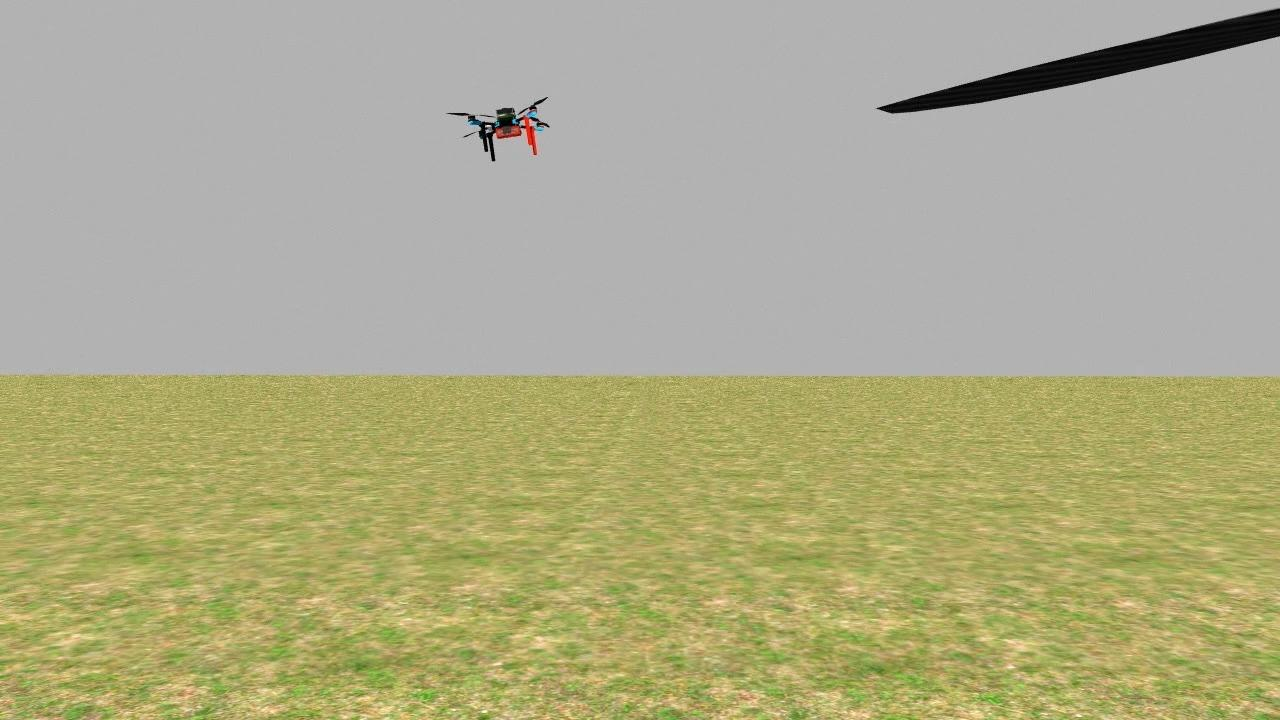UAV: (436, 88, 574, 173)
